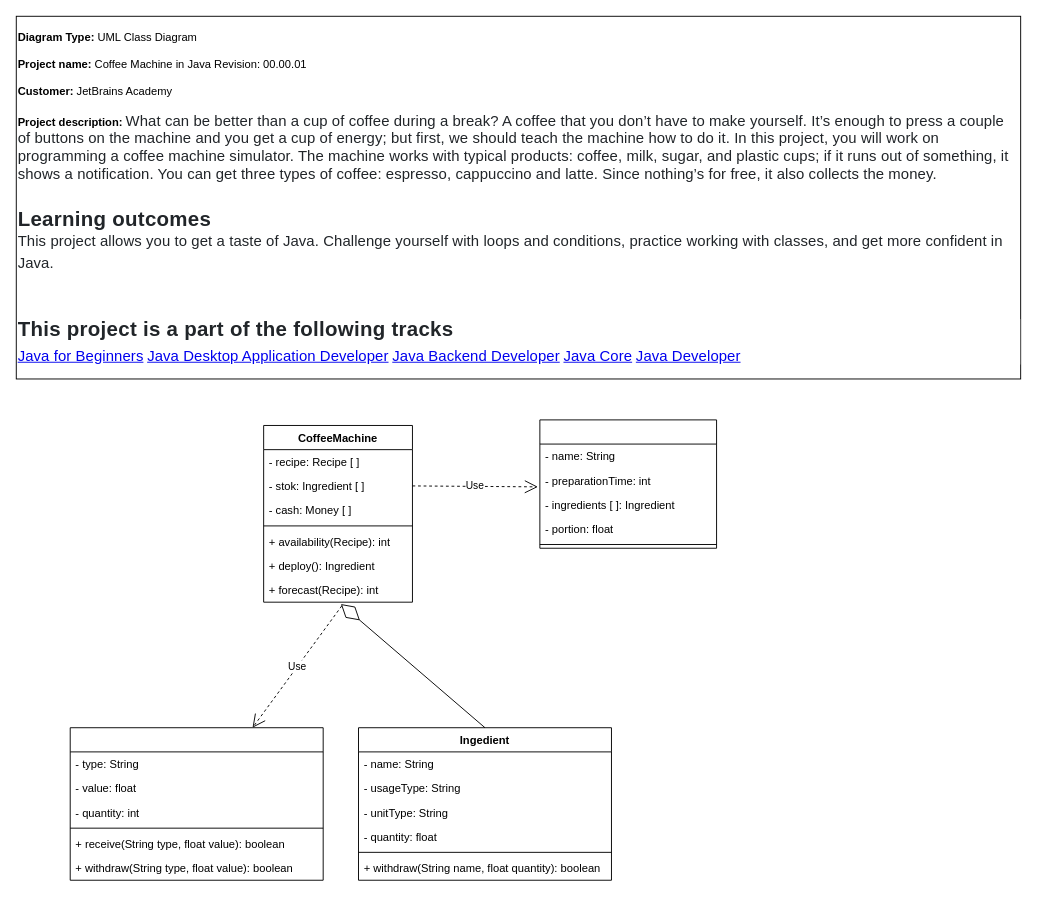
Image size: 1037x899. Some labels were removed from this diagram. Here are the shapes that lost their labels. From the top down, the box of each, then its label:
(539, 419, 717, 548): Recipe
(69, 727, 323, 880): Money
